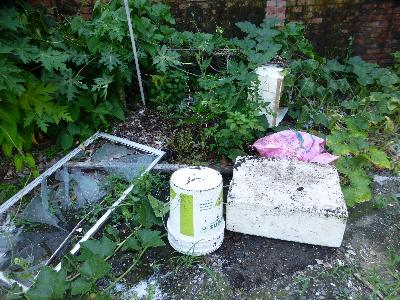bucket: (162, 165, 227, 259)
plastic_bag: (253, 131, 333, 164)
styrofoam: (227, 155, 348, 247), (246, 64, 292, 130), (243, 133, 244, 134)
